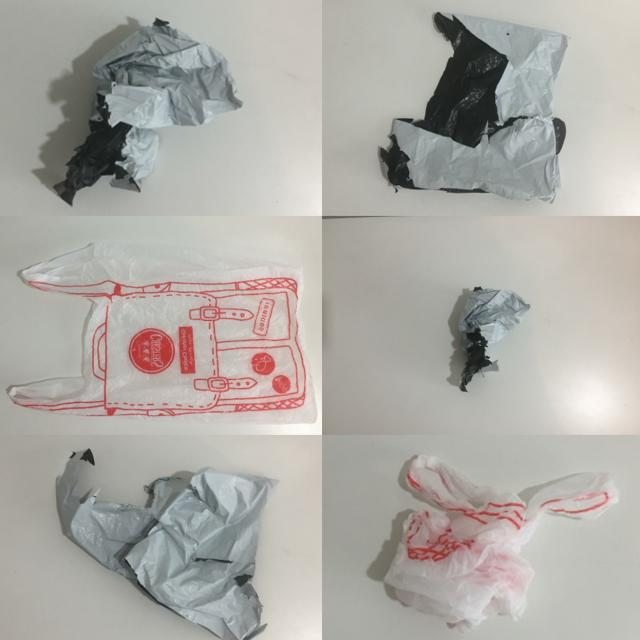plastik: (8, 243, 317, 423), (56, 450, 277, 640), (385, 455, 619, 629), (381, 14, 567, 202), (54, 19, 242, 204), (458, 287, 530, 390)
